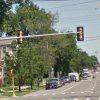Tree: (13, 4, 62, 75)
